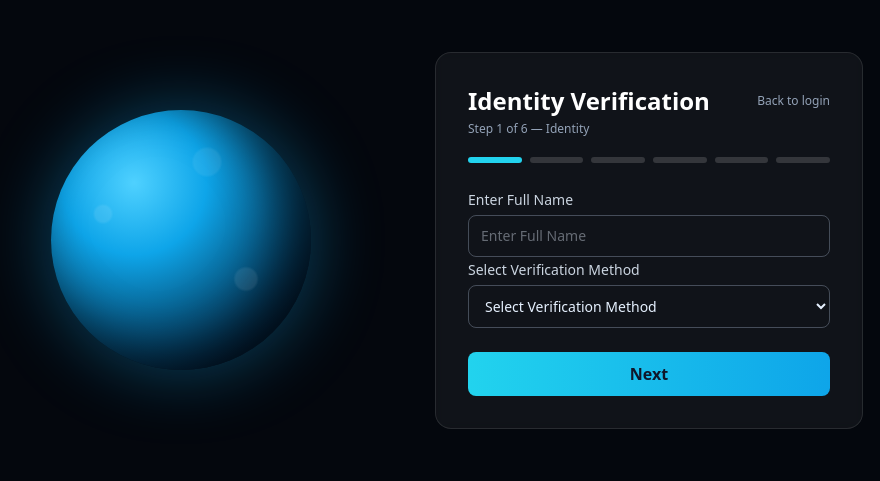
it: Register › an aadhaar registration never shows a Visa & Travel step
Step 1. Type "Aarav Sharma" into the field with placeholder "Enter Full Name" → x=649, y=236, box [468,214,830,256]
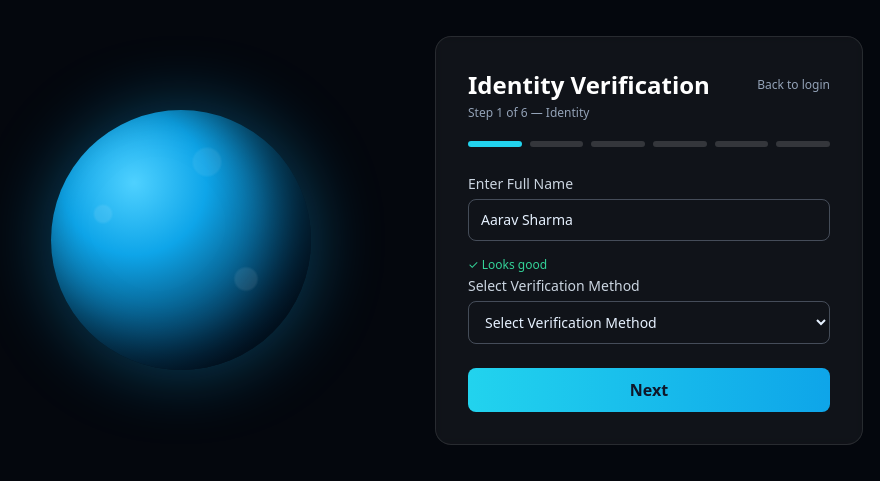
Step 2. Select "Aadhaar" in the dropdown labelled "Select Verification Method" → x=649, y=322, box [468,300,830,344]
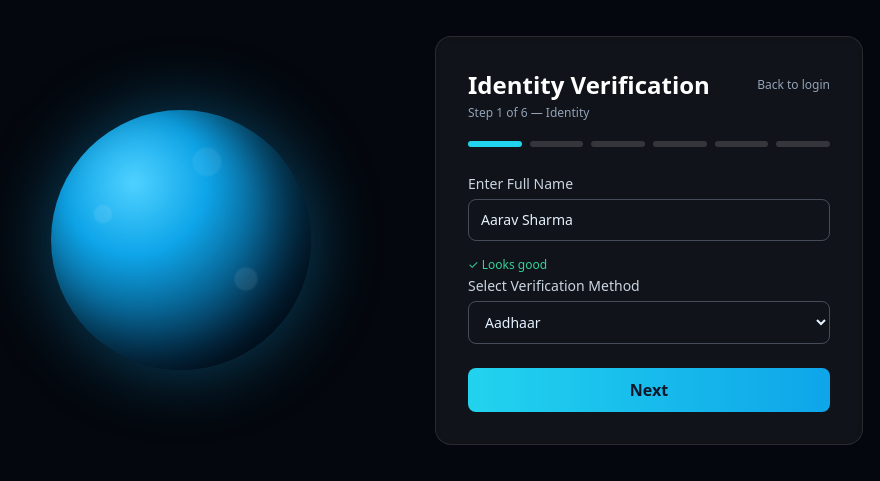
Step 3. Click the button "Next" → x=649, y=390, box [468,368,830,412]
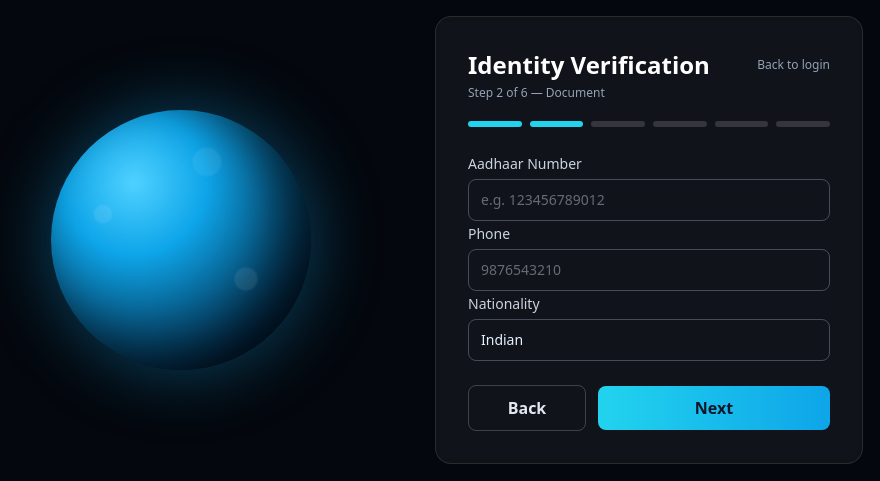
expect the text "Step 2 of 6 — Document" is shown: met, box [468,84,605,101]
